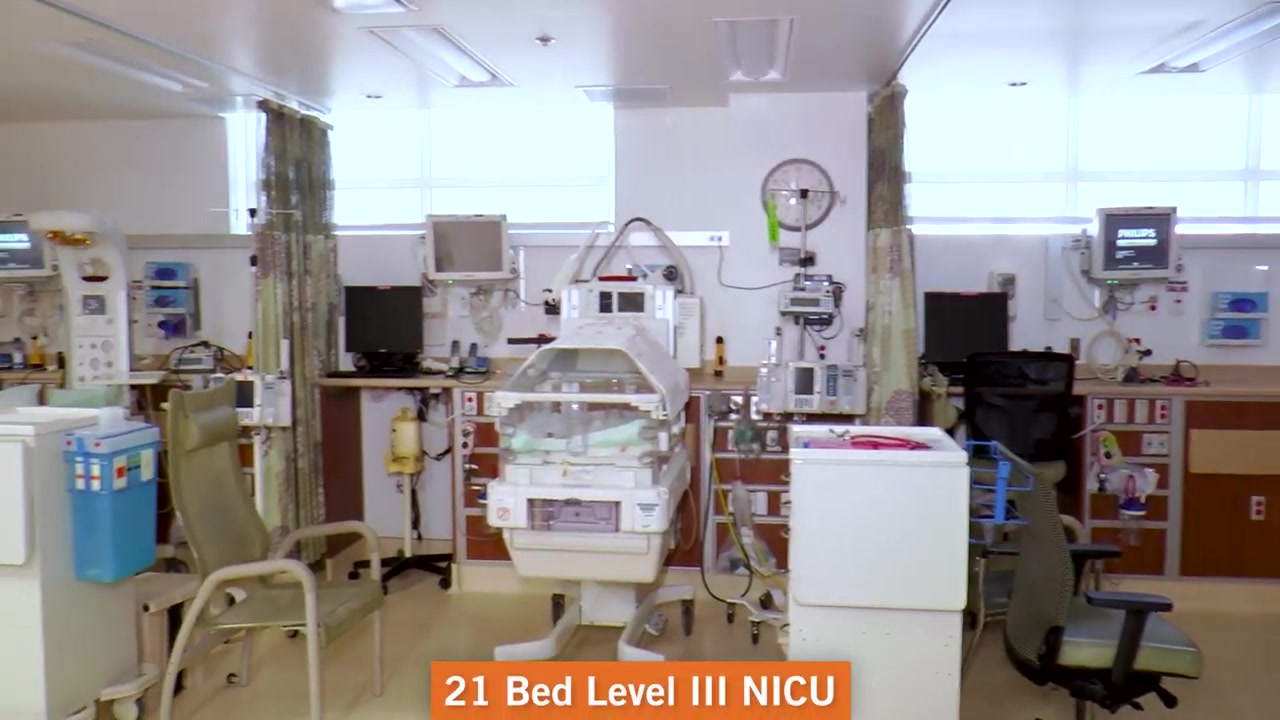bedside_monitor: (1090, 207, 1179, 282), (423, 213, 507, 281), (1, 213, 54, 278)
chair: (153, 379, 386, 720), (987, 440, 1204, 720), (967, 349, 1078, 440)
computer: (923, 292, 1011, 365), (344, 283, 426, 355)
curtain: (252, 98, 339, 566), (866, 84, 920, 426)
dispenser: (141, 260, 201, 338), (1212, 291, 1266, 346)
incubator: (490, 322, 702, 663)
infusion_pump: (758, 360, 864, 417), (212, 373, 298, 424)
iv_pole: (208, 203, 304, 370), (760, 185, 849, 359)
panda_baby_warmer: (35, 213, 132, 406)
